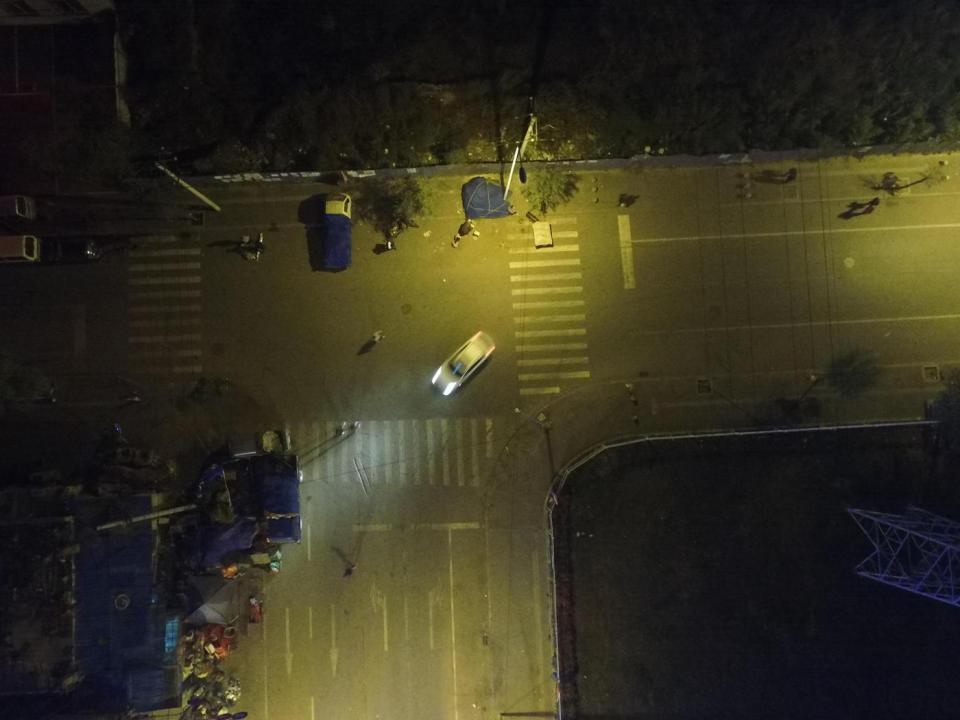car: (432, 330, 495, 395), (48, 238, 102, 263)
truck: (264, 454, 302, 544), (324, 192, 352, 269), (228, 430, 291, 456)
van: (0, 235, 41, 264), (1, 195, 36, 222)
